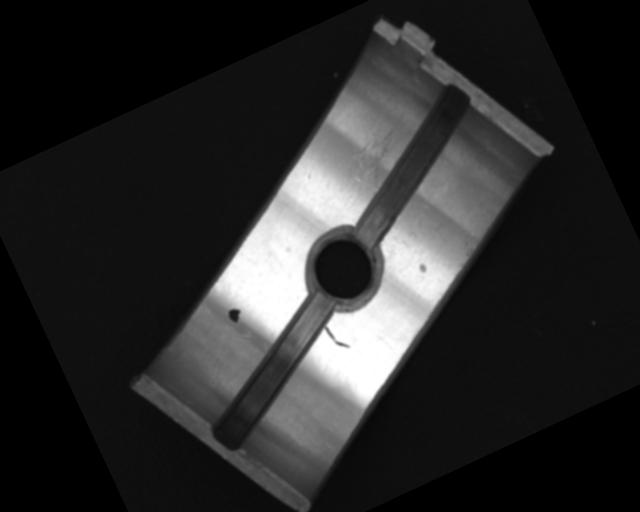blot: (225, 306, 246, 327)
bruise: (416, 260, 428, 274)
gap: (316, 80, 508, 251), (181, 293, 364, 452)
hole: (295, 222, 393, 320)
nick: (322, 319, 350, 354)
scratch: (339, 109, 431, 196)
